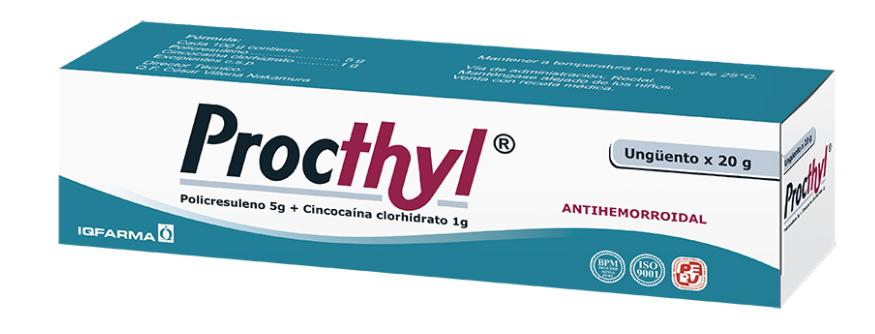brand: (73, 224, 159, 246)
extra_detail: (175, 189, 476, 231)
net_weight: (616, 142, 757, 176)
product_name: (174, 98, 496, 213)
